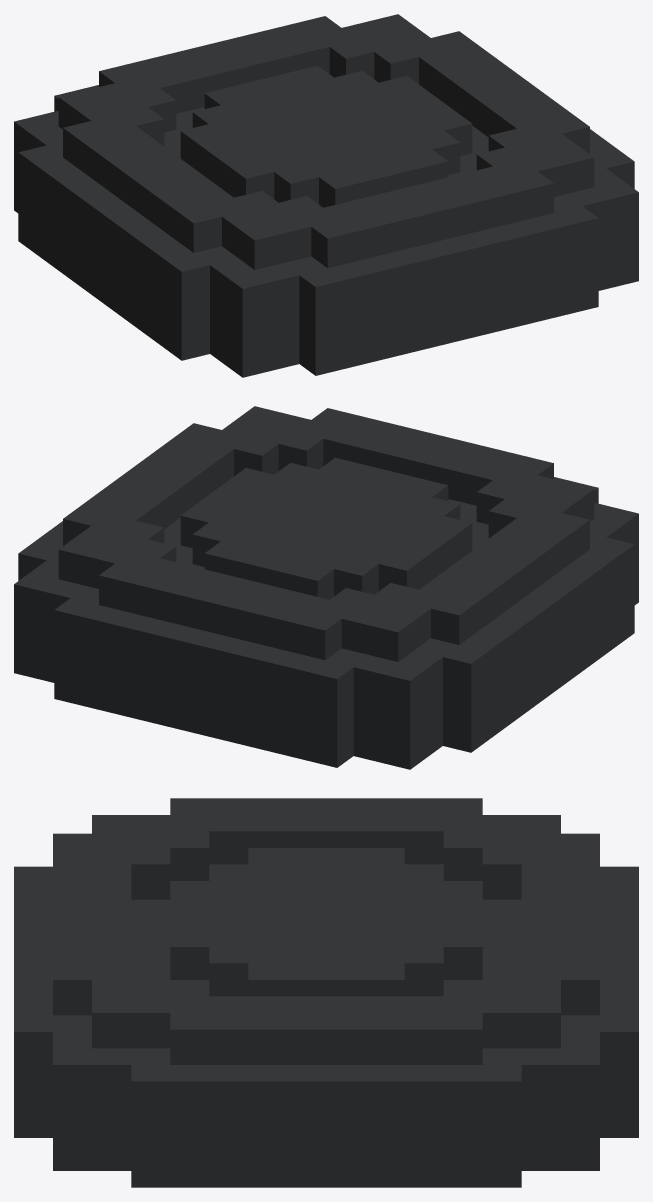
File: man-v2-black.gltf
The picture shows the model from 3 angles, top to bottom: view 1: azimuth 30°, elevation 25°; view 2: azimuth 150°, elevation 25°; view 3: azimuth 270°, elevation 25°; orthographic projection. The views are drawn at different scales.
Visible parts, largest first — view 1: Untitled; view 2: Untitled; view 3: Untitled.
Boxes of the visible parts, x1,y1,x2,y2 form: Untitled: (14,14,638,377); Untitled: (14,406,638,769); Untitled: (14,798,638,1187).
Bounding box in the file's own units: 1.6 × 0.4 × 1.6.
1 material, 1 textured.
